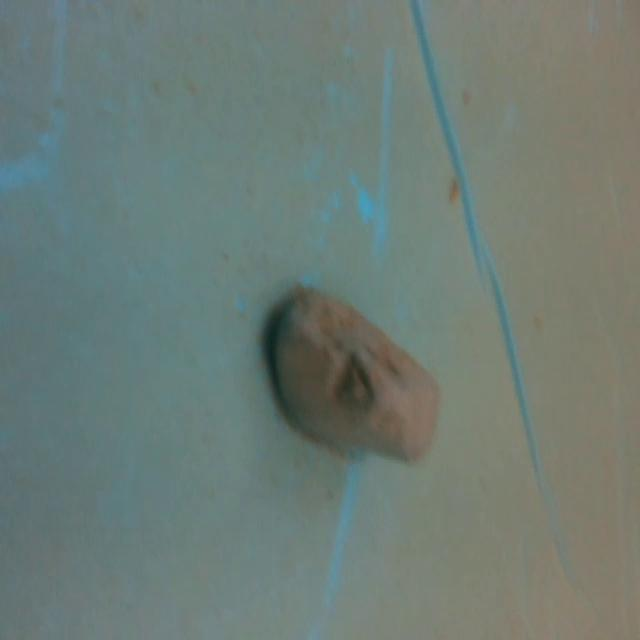rock: (265, 279, 452, 474)
